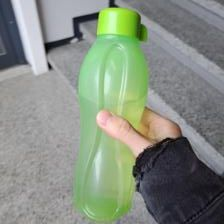bottle: (72, 5, 150, 224)
